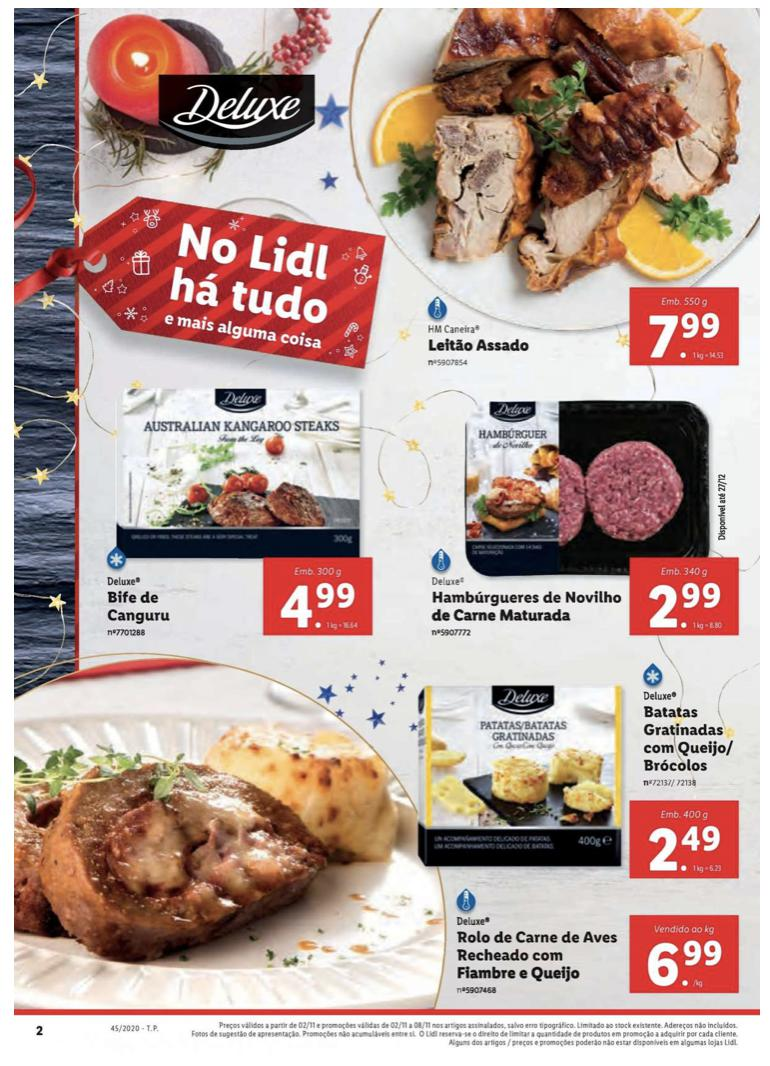name: (450, 924, 619, 984), (422, 585, 625, 625), (632, 704, 736, 774), (97, 589, 174, 628), (424, 332, 535, 354)
price: (629, 576, 741, 637), (262, 575, 372, 637), (627, 934, 741, 991), (631, 308, 737, 367), (629, 821, 737, 876)
product: (372, 1, 750, 387), (374, 392, 749, 647), (28, 892, 747, 1014), (86, 370, 387, 647), (404, 660, 749, 876)
